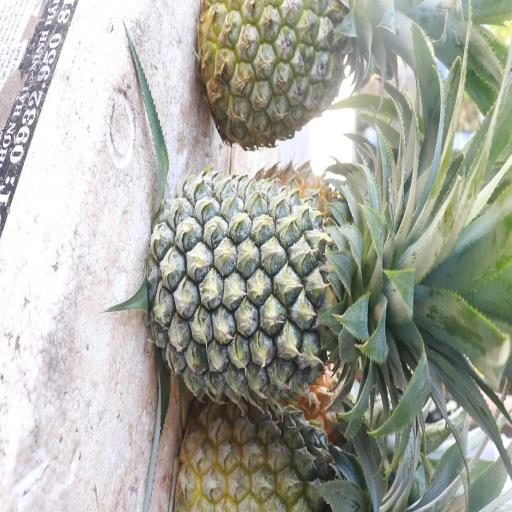------------------------------: (198, 0, 349, 146), (178, 395, 364, 512)
